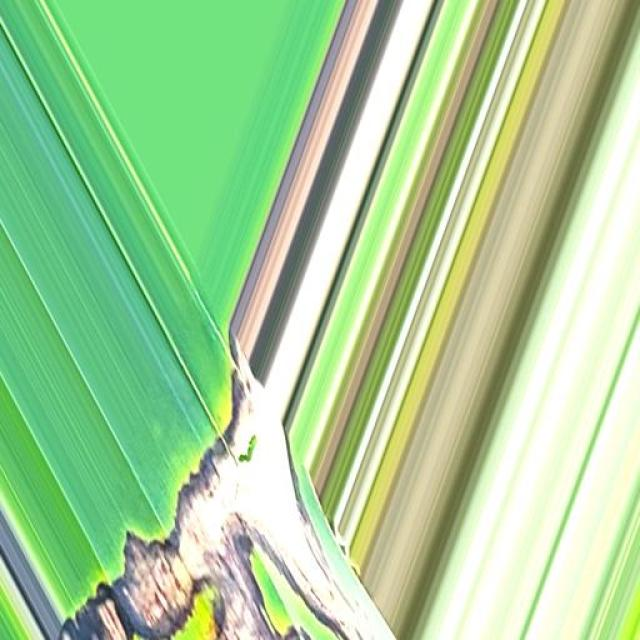Early_rust: (0, 336, 359, 640)
